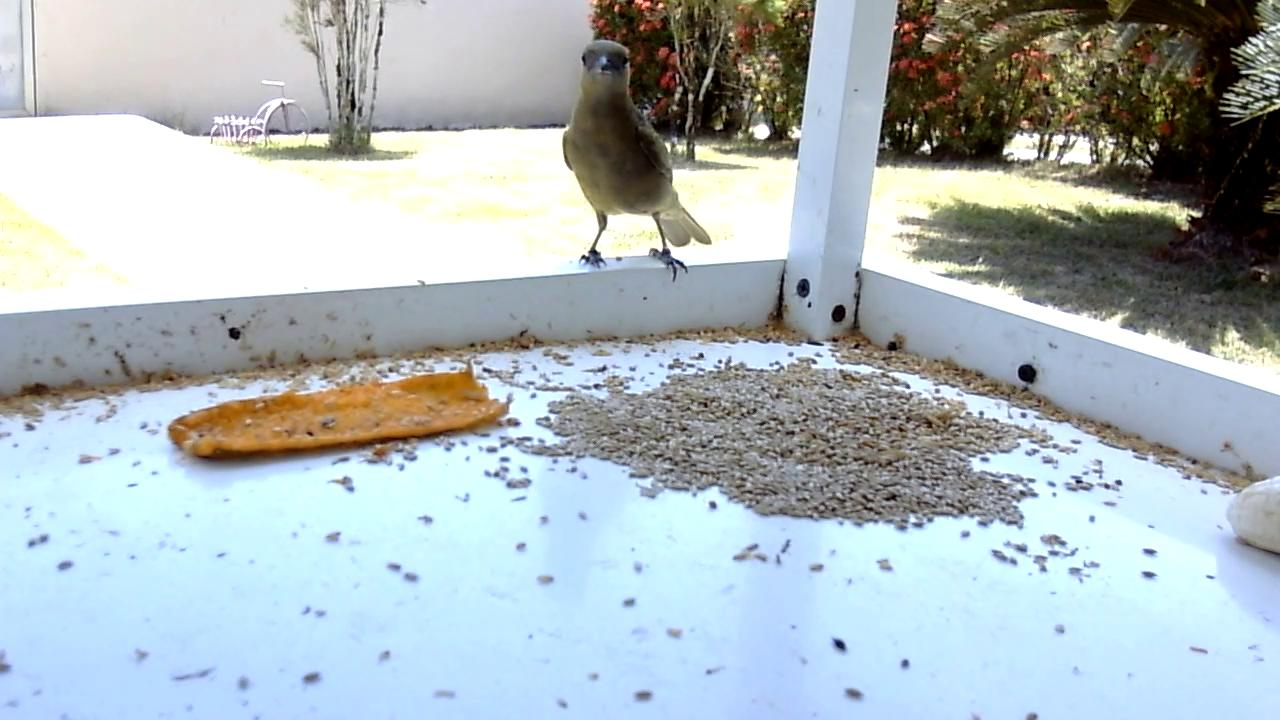sanhaco_do_coqueiro: (561, 41, 713, 284)
